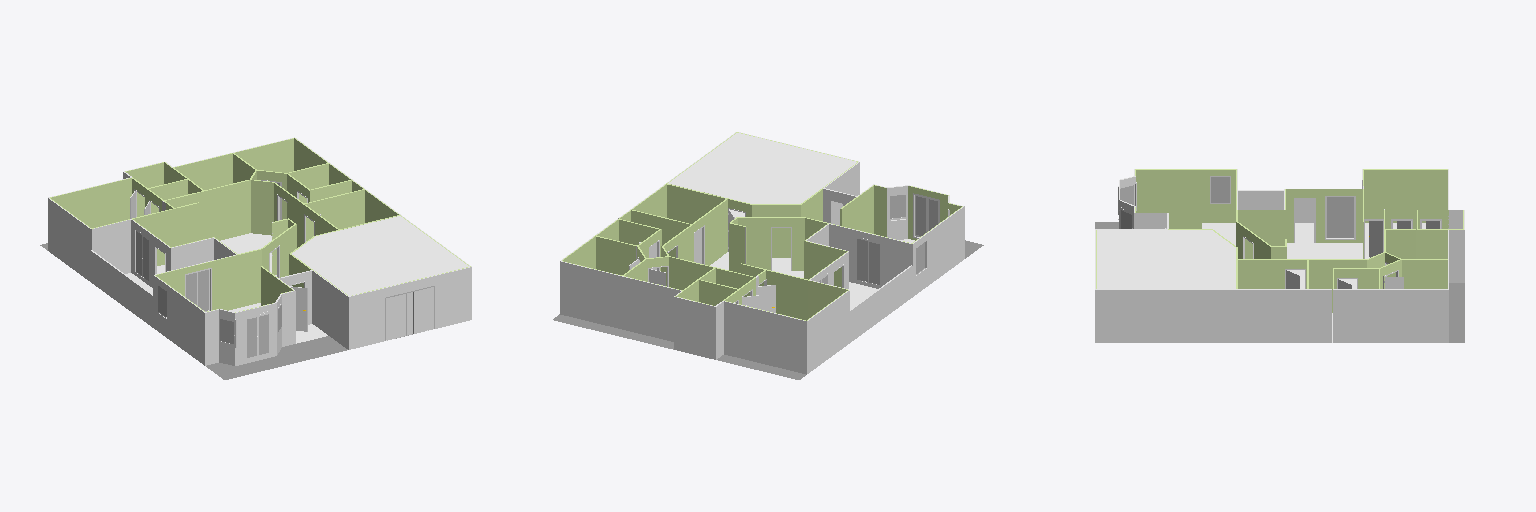
The model's file is Casa_Alexander.obj.
3 views of the same model, side by side, from view 1: azimuth 30°, elevation 25°; view 2: azimuth 150°, elevation 25°; view 3: azimuth 270°, elevation 25° (orthographic).
Visible parts, largest first — view 1: room_67_360, wall_26_153, wall_32_190, wall_1_5, wall_12_69, wall_3_16, ground_1, wall_40_238, wall_60_345, Door_383, wall_51_304, wall_31_183 (+19 smaller); view 2: room_67_360, wall_1_4, wall_14_82, wall_11_63, wall_32_190, wall_3_16, wall_5_28, wall_42_250, wall_31_184, wall_40_238, ground_1, wall_51_303 (+18 smaller); view 3: room_67_360, wall_25_147, wall_32_189, wall_24_142, wall_13_76, wall_3_17, wall_17_100, room_68_361, wall_27_159, wall_22_129, wall_29_171, wall_18_105 (+14 smaller).
Part boxes in pixels (x1,y1,x2,y2): room_67_360: (292, 216, 469, 295); wall_26_153: (349, 267, 471, 349); wall_32_190: (153, 275, 204, 365); wall_1_5: (51, 178, 131, 227); wall_12_69: (205, 180, 250, 240); wall_3_16: (48, 198, 90, 281); ground_1: (40, 243, 412, 379); wall_40_238: (91, 251, 152, 327); wall_60_345: (312, 271, 348, 349); Door_383: (386, 287, 433, 340); wall_51_304: (133, 203, 199, 265); wall_31_183: (156, 255, 237, 310); room_67_360: (668, 133, 856, 203); wall_1_4: (724, 301, 806, 374); wall_14_82: (560, 261, 620, 328); wall_11_63: (621, 276, 680, 341); wall_32_190: (913, 206, 964, 296); wall_3_16: (808, 291, 849, 373); wall_5_28: (674, 297, 715, 359); wall_42_250: (738, 218, 804, 270); wall_31_184: (829, 224, 912, 288); wall_40_238: (850, 266, 912, 342); ground_1: (553, 240, 983, 379); wall_51_303: (741, 264, 807, 320); room_67_360: (1097, 230, 1235, 288); wall_25_147: (1095, 290, 1236, 342); wall_32_189: (1136, 170, 1235, 222); wall_24_142: (1236, 290, 1307, 342); wall_13_76: (1379, 290, 1448, 342); wall_3_17: (1364, 170, 1447, 222); wall_17_100: (1333, 290, 1378, 342); room_68_361: (1202, 223, 1425, 342); wall_27_159: (1286, 189, 1362, 242); wall_22_129: (1238, 260, 1306, 288); wall_29_171: (1238, 210, 1285, 258); wall_18_105: (1307, 290, 1331, 342).
Size of the model in its own units: 1219 by 250 by 1578.